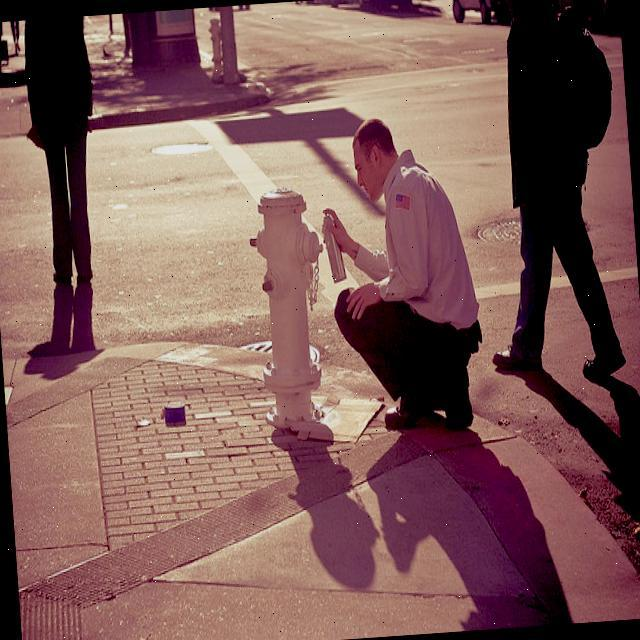fire_hydrant: (246, 187, 336, 436)
